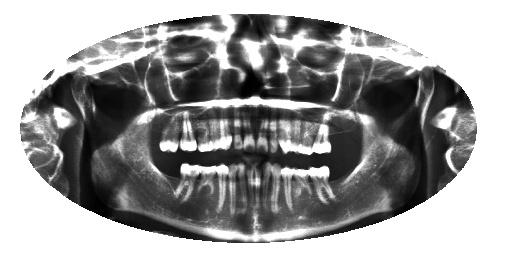caries: (239, 107, 257, 153), (255, 109, 270, 155)
fractura: (172, 162, 203, 205), (308, 164, 337, 205), (312, 111, 335, 156), (214, 107, 233, 153), (215, 161, 230, 216), (280, 164, 296, 214), (180, 107, 198, 151), (197, 107, 213, 155), (297, 112, 313, 156), (295, 166, 313, 204), (161, 118, 179, 153), (198, 162, 216, 197)
